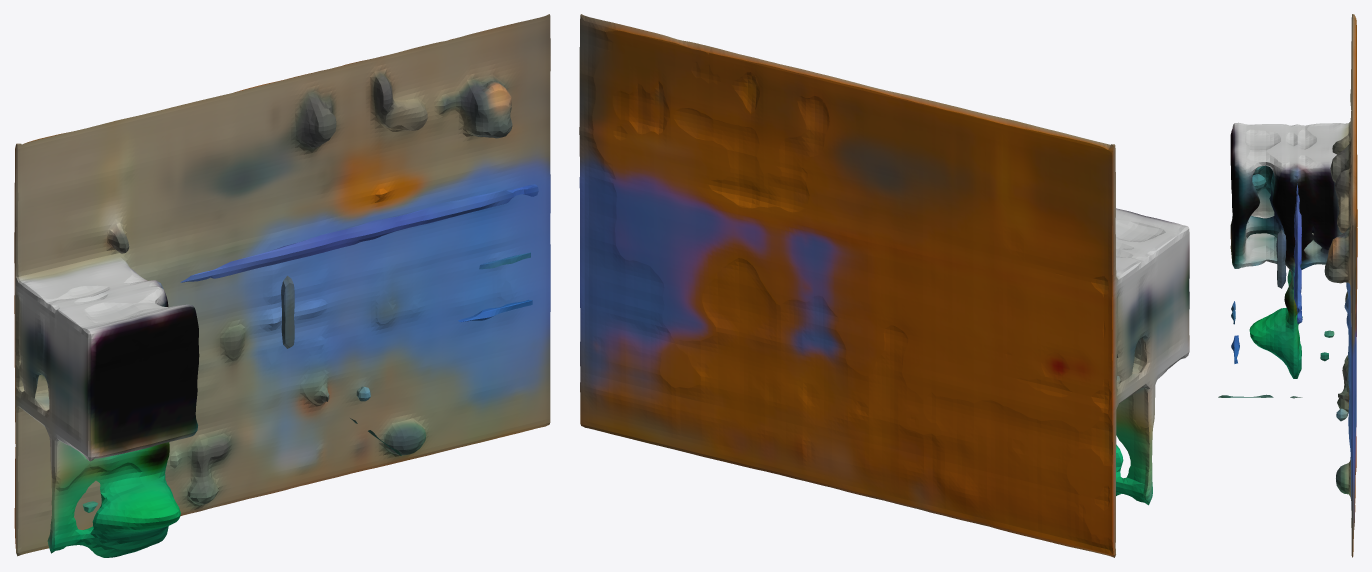
3 views of the same model, side by side, from view 1: azimuth 30°, elevation 25°; view 2: azimuth 150°, elevation 25°; view 3: azimuth 270°, elevation 25° (orthographic). The views are drawn at different scales.
Parts seen in each view (by area): view 1: model.ply; view 2: model.ply; view 3: model.ply.
Boxes of the visible parts, box(x1,y1,x2,y2) form: model.ply: box(14, 14, 550, 557); model.ply: box(579, 14, 1189, 557); model.ply: box(1218, 14, 1357, 557).
Size of the model in its own units: 1.98 by 1.46 by 0.5509.
